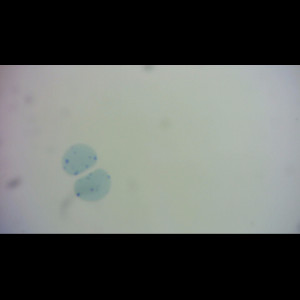punctate reticulocyte: (73, 168, 113, 204), (60, 143, 99, 177)
